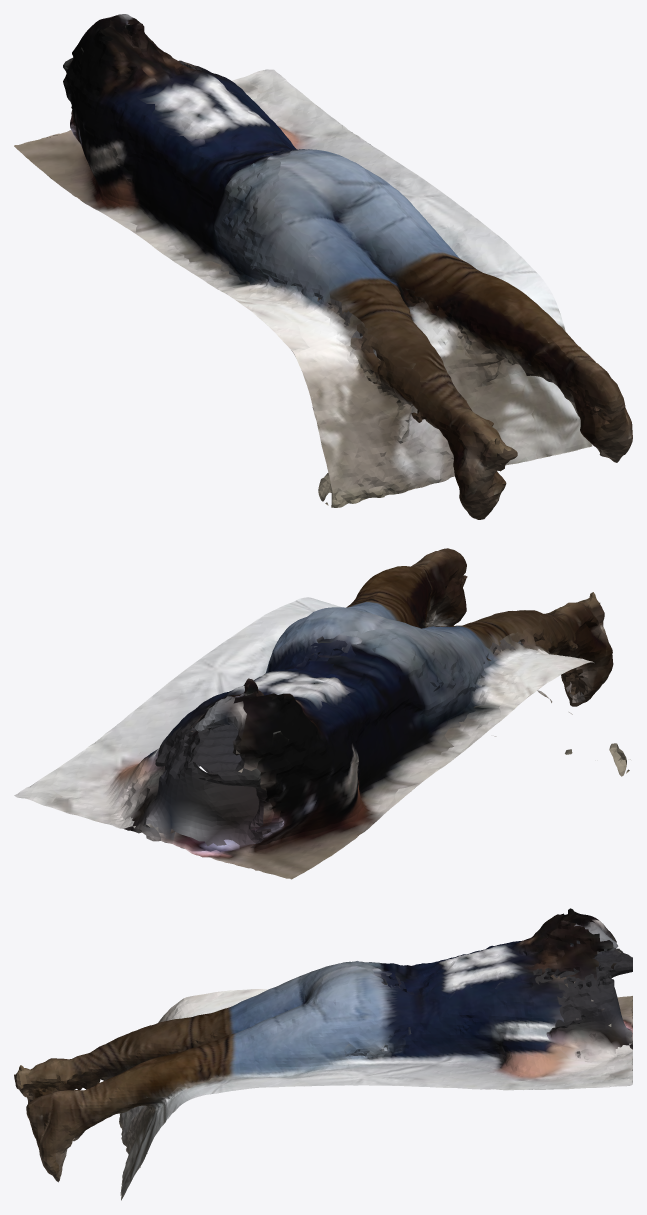
3 views of the same model, one above another, from view 1: azimuth 30°, elevation 25°; view 2: azimuth 150°, elevation 25°; view 3: azimuth 270°, elevation 25° (orthographic). The views are drawn at different scales.
Bounding box in the file's own units: 0.6376 × 0.6198 × 1.65.
Materials: 1 (1 with a texture image).
